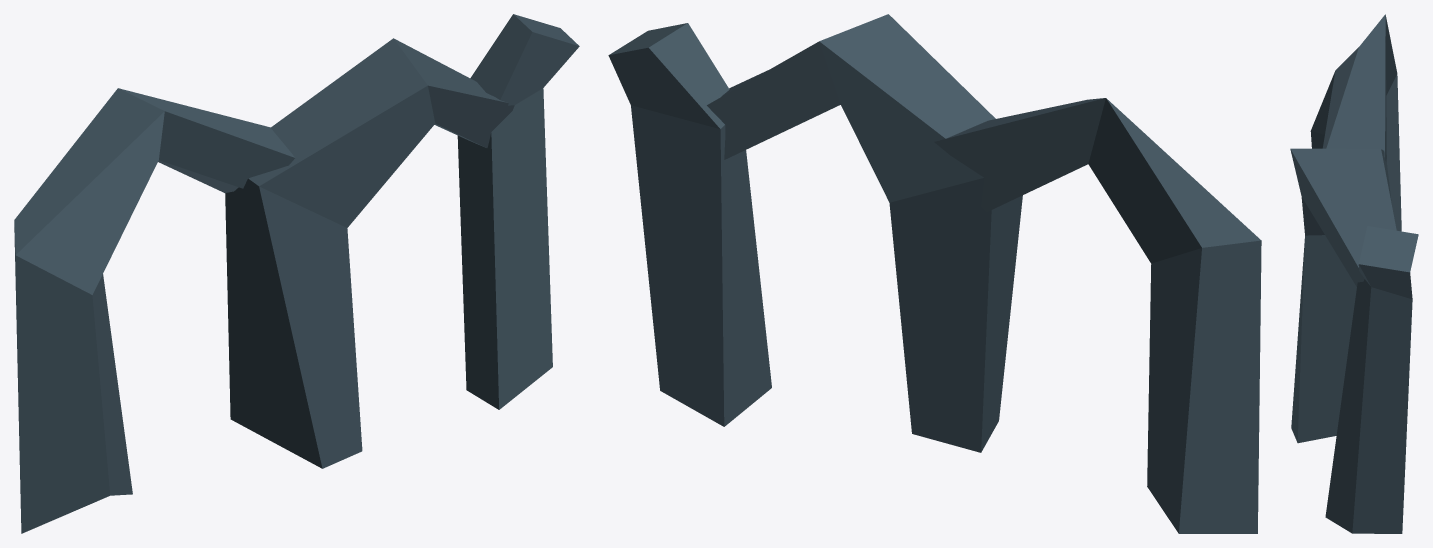
Rendered from lowercase-x.glb.
3 views of the same model, side by side, from view 1: azimuth 30°, elevation 25°; view 2: azimuth 150°, elevation 25°; view 3: azimuth 270°, elevation 25° (orthographic). The views are drawn at different scales.
Bounding box in the file's own units: 0.3363 × 0.2211 × 0.0708.
